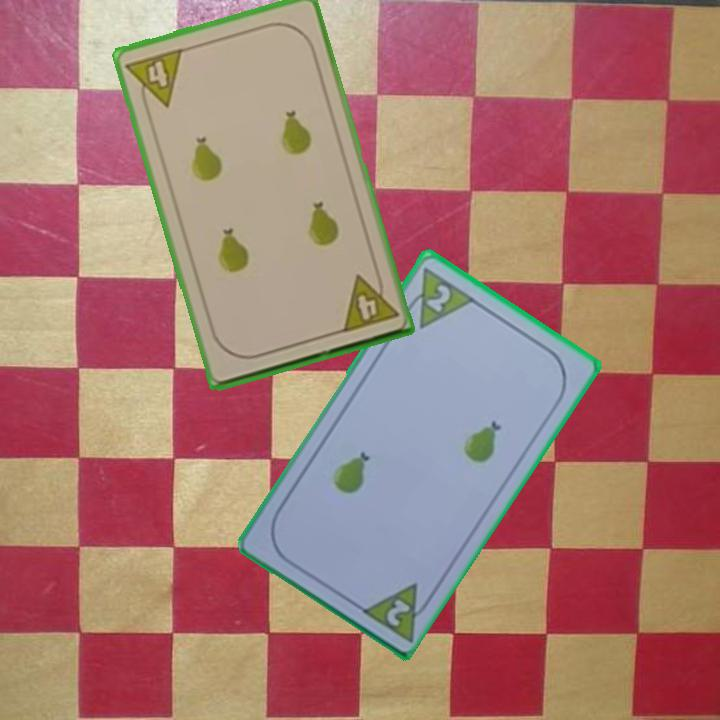2p: (398, 263, 478, 331), (382, 594, 414, 629)
4p: (122, 44, 186, 115), (337, 267, 401, 336)
